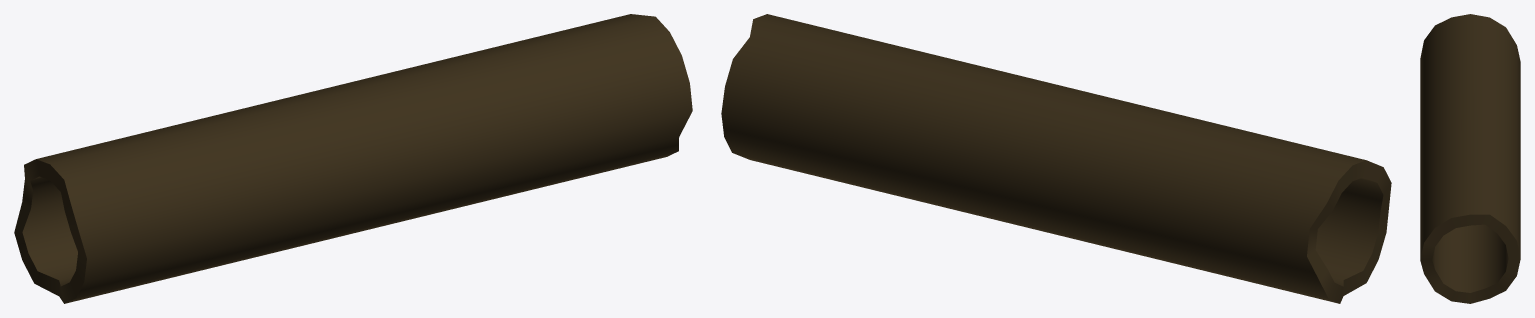
Rendered from FallenTreeTrunk.fbx.
3 views of the same model, side by side, from view 1: azimuth 30°, elevation 25°; view 2: azimuth 150°, elevation 25°; view 3: azimuth 270°, elevation 25° (orthographic). The views are drawn at different scales.
Parts seen in each view (by area): view 1: FallenTrunk; view 2: FallenTrunk; view 3: FallenTrunk.
Part boxes in pixels (box(x1,y1,x2,y2)): FallenTrunk: box(14, 14, 692, 303); FallenTrunk: box(721, 14, 1391, 303); FallenTrunk: box(1420, 14, 1520, 303).
Size of the model in its own units: 9.52 by 2 by 2.
